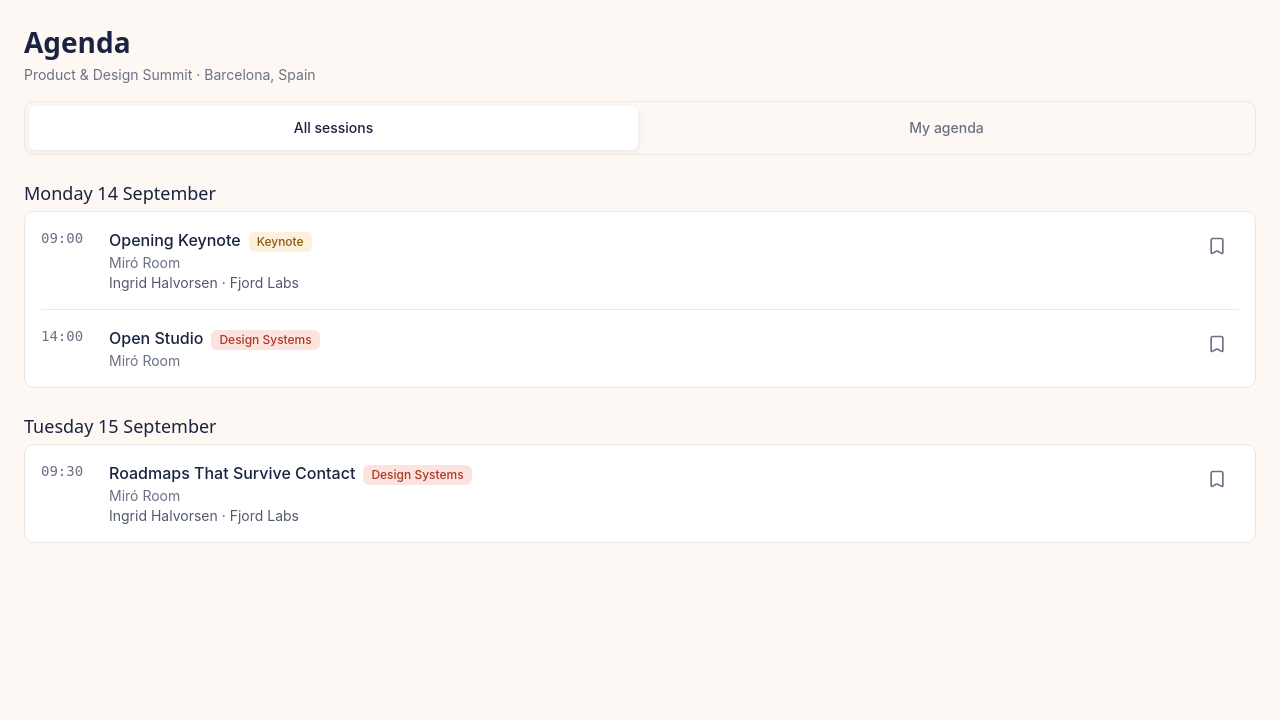
Scenario: writes attempted with no connection › succeeds on a retry once the connection returns, with no reload (US4 scenario 6)
Expected: the link "Opening Keynote" is shown, [109,230,241,250]
Click the button named "save Opening Keynote to your agenda".
click(1217, 246)  # box [1195,224,1239,268]
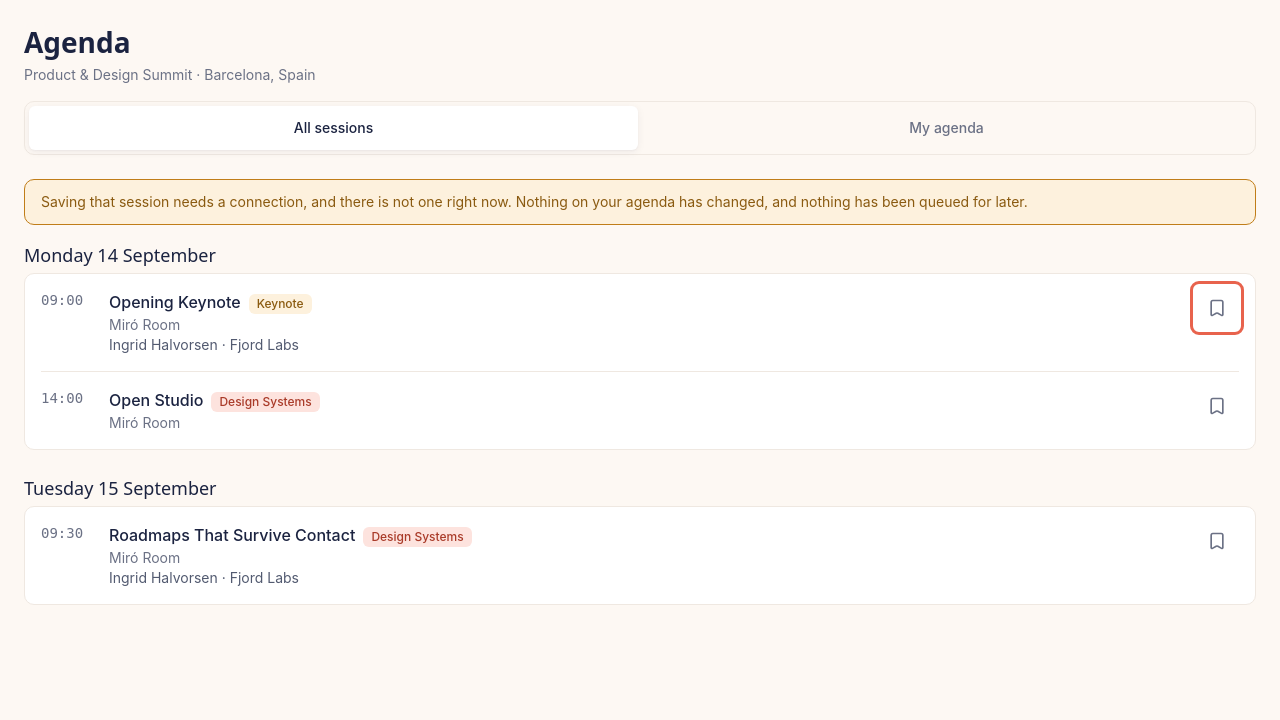
Expected: the message is shown, [24,179,1256,225]
Click the button named "save Opening Keynote to your agenda".
click(1217, 308)  # box [1195,286,1239,330]
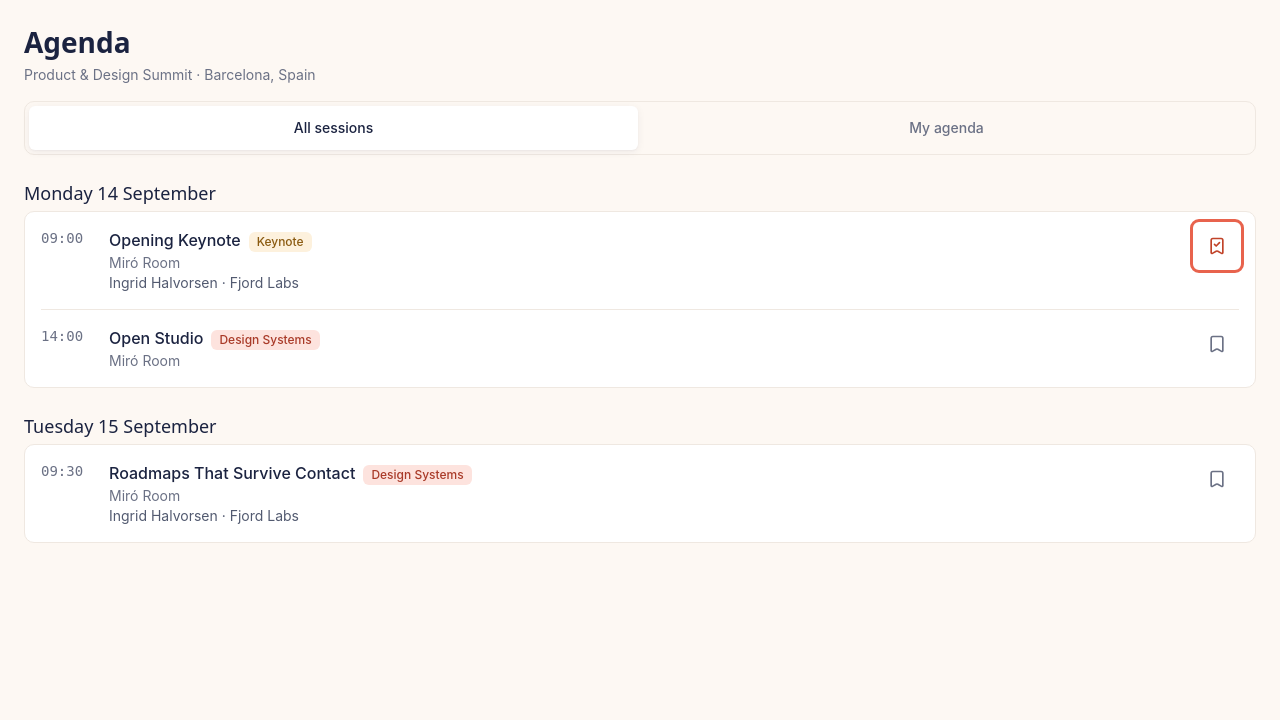
Expected: the button named "remove Opening Keynote" is shown, [1195,224,1239,268]
Expected: the message "Saving that session needs a connection, and there is not one right now. Nothing" is gone
